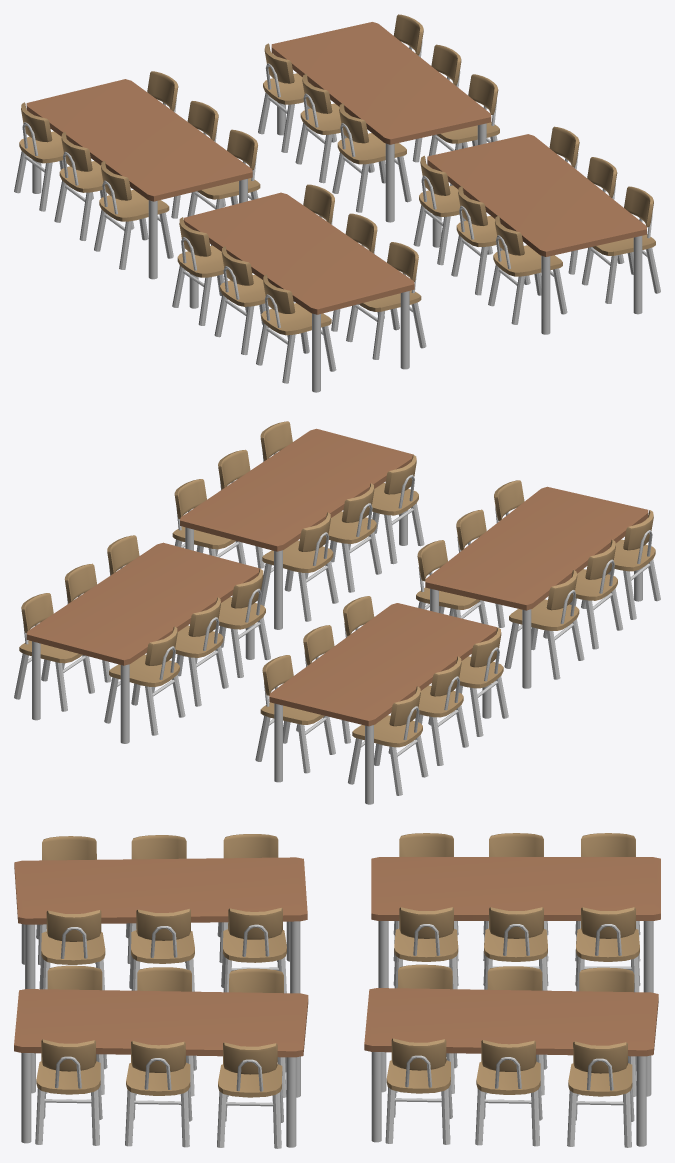
3 views of the same model, one above another, from view 1: azimuth 30°, elevation 25°; view 2: azimuth 150°, elevation 25°; view 3: azimuth 270°, elevation 25° (orthographic). The views are drawn at different scales.
Parts seen in each view (by area): view 1: Tischgruppe 6er.017; view 2: Tischgruppe 6er.017; view 3: Tischgruppe 6er.017.
Boxes of the visible parts, box(x1,y1,x2,y2) form: Tischgruppe 6er.017: box(14, 14, 660, 392); Tischgruppe 6er.017: box(14, 421, 660, 804); Tischgruppe 6er.017: box(14, 833, 660, 1148).
Bounding box in the file's own units: 4.88 × 1.18 × 6.13.
1 material, 1 textured.
